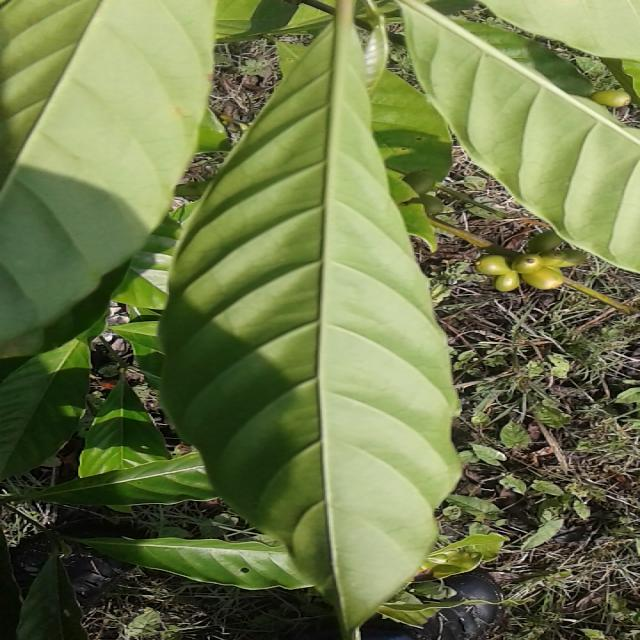Sanas: (166, 69, 463, 640)
